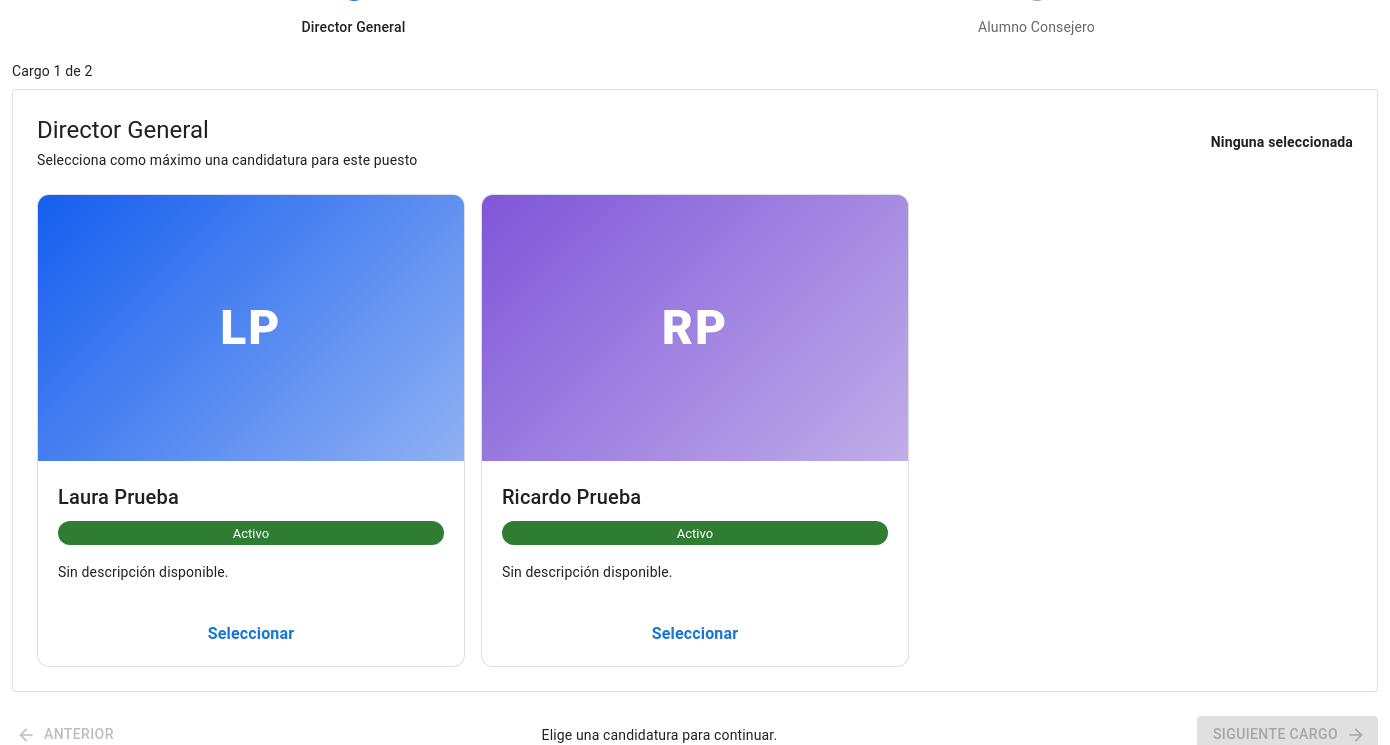
BallotStepper › avanza al elegir y termina en el último cargo
The image size is (1390, 745).
Later steps or results of the test are not shown.
Click the heading "Ricardo Prueba".
click(572, 497)  # box 502,485 -> 641,509
(page scrolled)
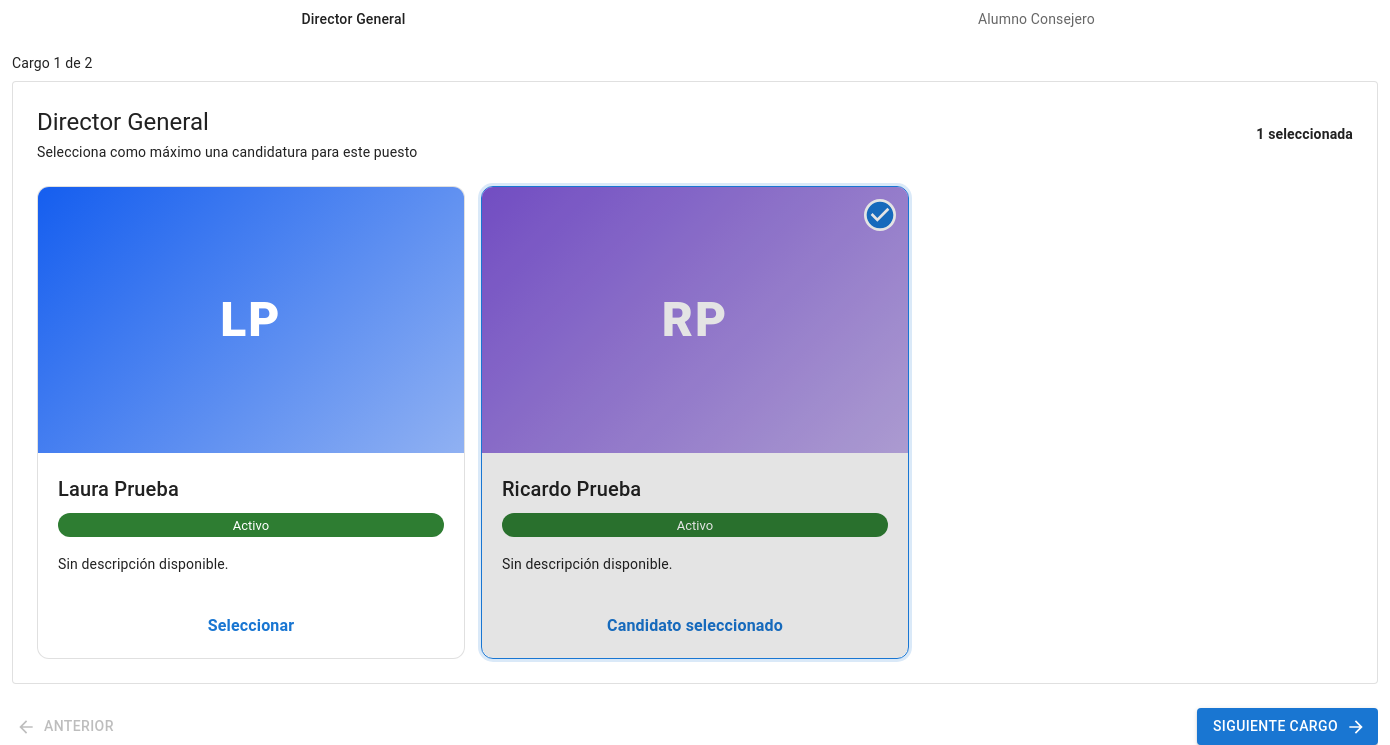
Click the button "Siguiente cargo".
click(1288, 727)  # box 1197,708 -> 1378,744
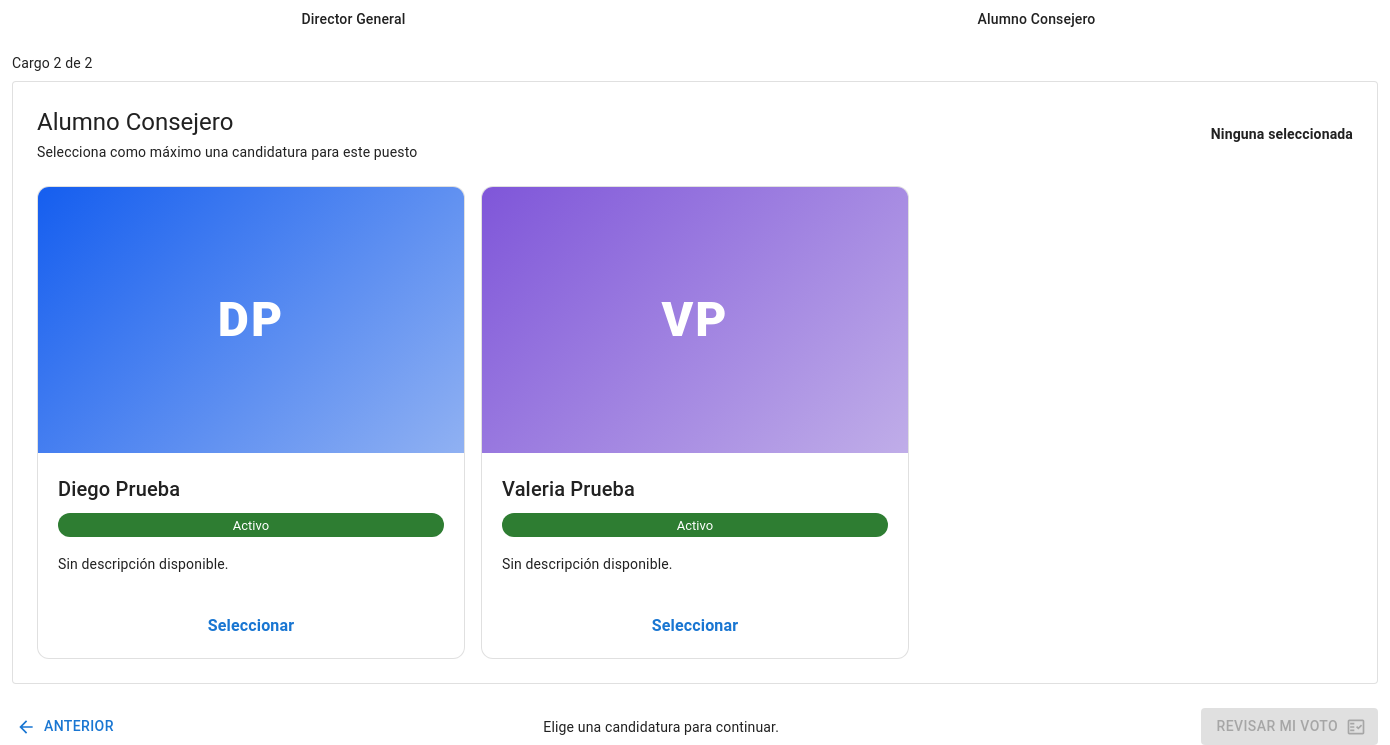
Check: the text "Cargo 2 de 2" is shown, box 12,55 -> 92,71
Check: the button "Revisar mi voto" is disabled, box 1201,708 -> 1378,744
